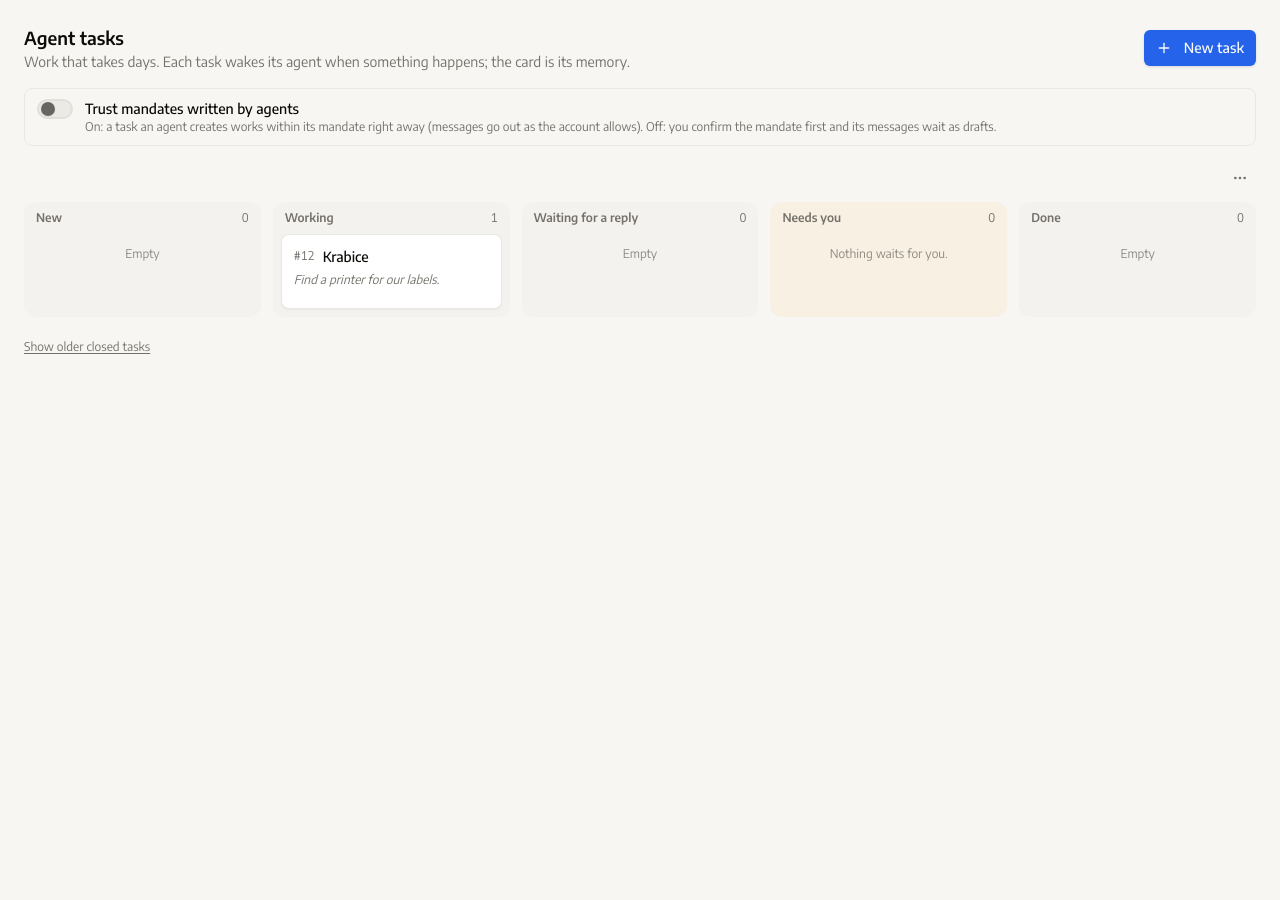
escape over the edit form closes the form, not the task under it
Click the button "Krabice": (346, 257) [323,247,369,266]
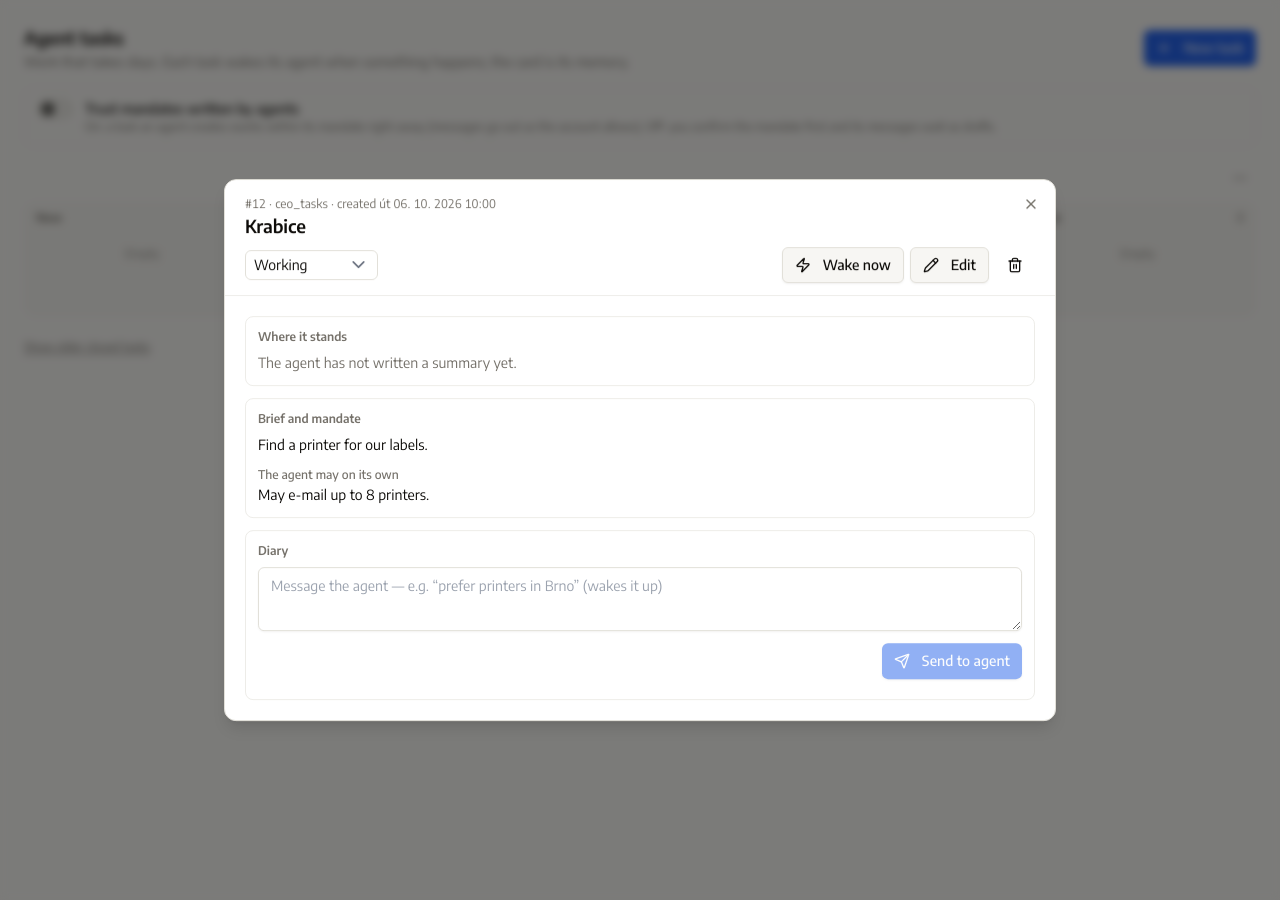
Click the button "Edit": (949, 265) [910,247,989,283]
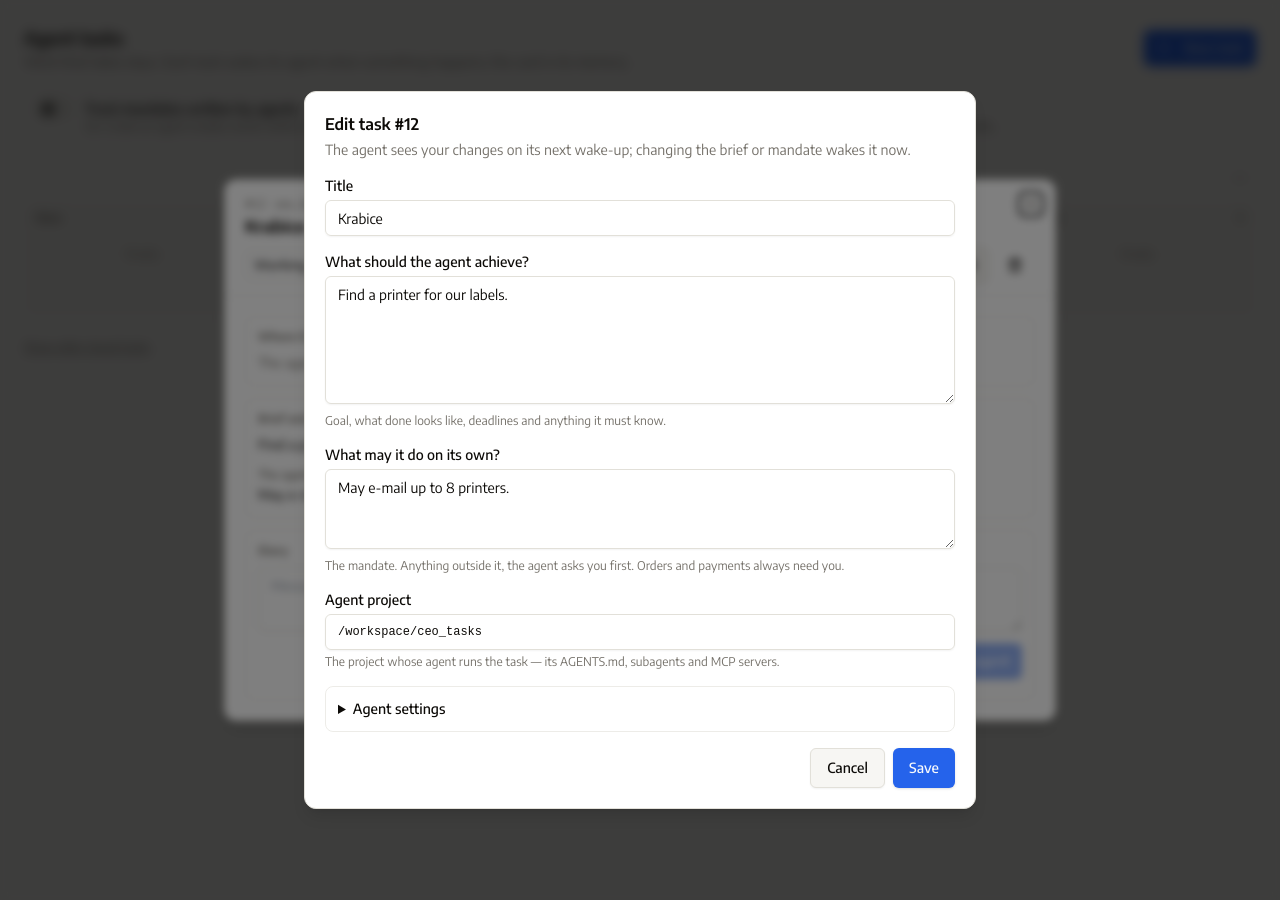
Now the heading "Edit task #12" is shown, box [325,114,419,134]
Press Escape
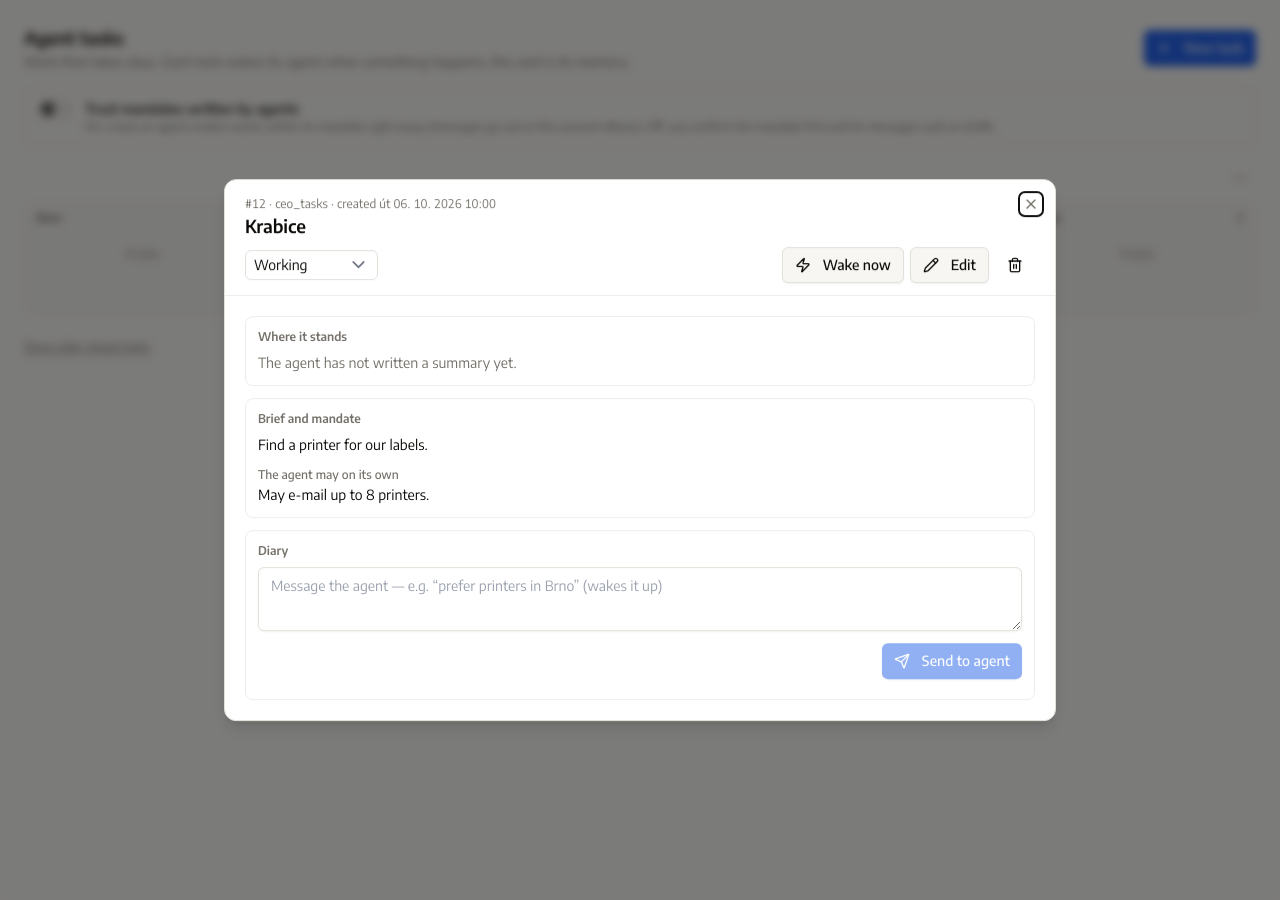
Now the text "#12 · ceo_tasks · created út 06. 10. 2026 10:00" is shown, box [245,196,496,211]
Now the heading "Edit task #12" is gone
